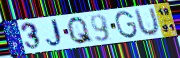3: (20, 21, 44, 52)
9: (90, 14, 112, 43)
G: (114, 10, 139, 40)
J: (45, 17, 66, 49)
Q: (66, 15, 96, 45)
U: (134, 6, 161, 38)
